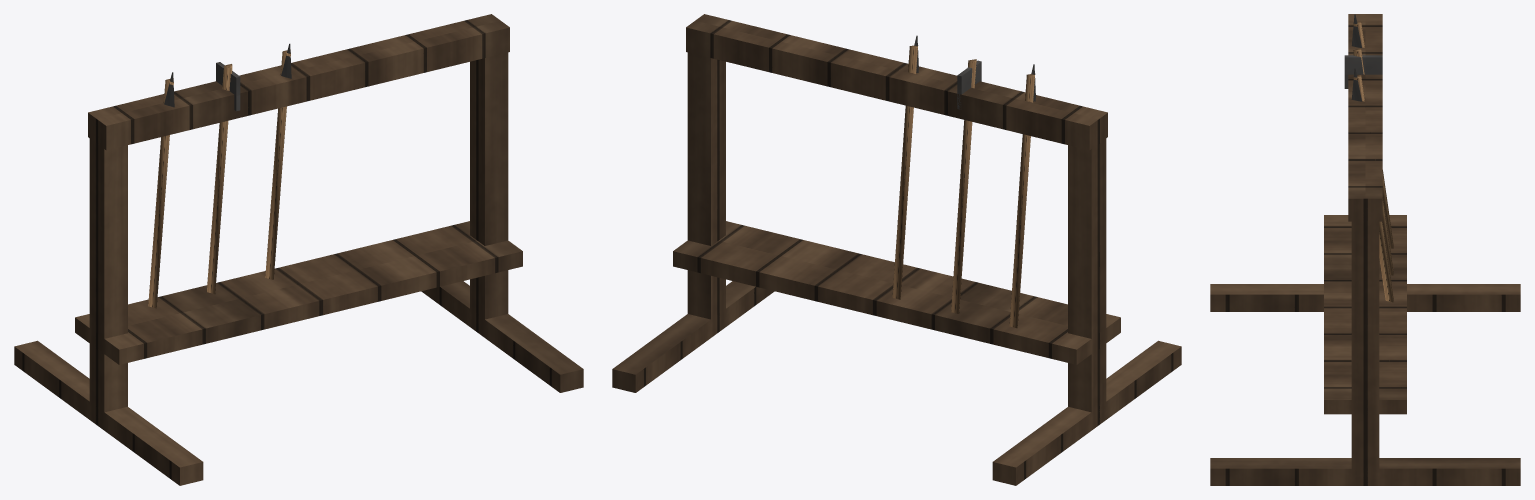
The model's file is WeaponStand_LOD2.gltf.
The picture shows the model from 3 angles, left to right: view 1: azimuth 30°, elevation 25°; view 2: azimuth 150°, elevation 25°; view 3: azimuth 270°, elevation 25°; orthographic projection. The views are drawn at different scales.
Parts seen in each view (by area): view 1: WeaponStand_LOD2; view 2: WeaponStand_LOD2; view 3: WeaponStand_LOD2.
Part boxes in pixels (box(x1,y1,x2,y2)): WeaponStand_LOD2: box(14, 14, 583, 485); WeaponStand_LOD2: box(612, 14, 1181, 485); WeaponStand_LOD2: box(1210, 14, 1520, 485).
Size of the model in its own units: 1.38 by 1.11 by 0.98.
3 materials, 3 textured.
